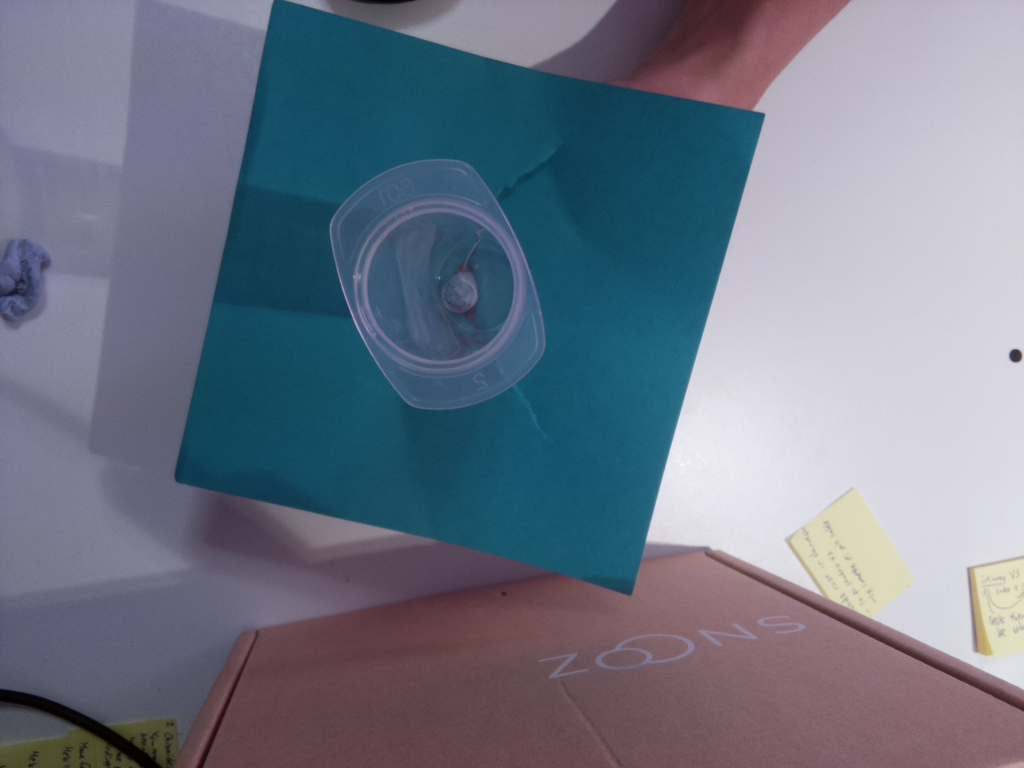clean: (330, 155, 547, 411)
